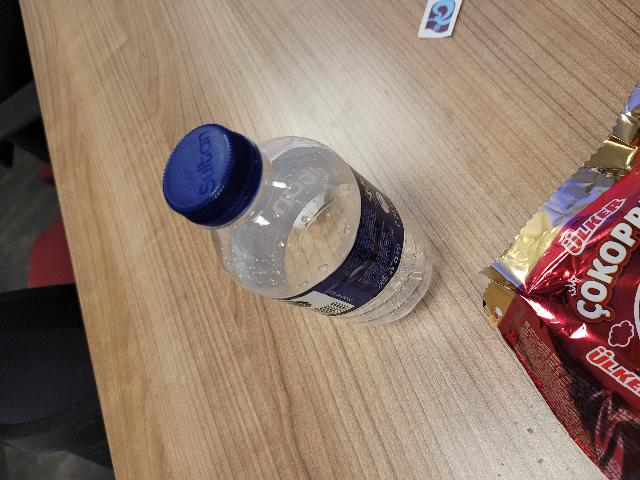Kagit: (416, 0, 461, 40)
Plastik: (479, 99, 640, 480), (162, 121, 436, 327)
